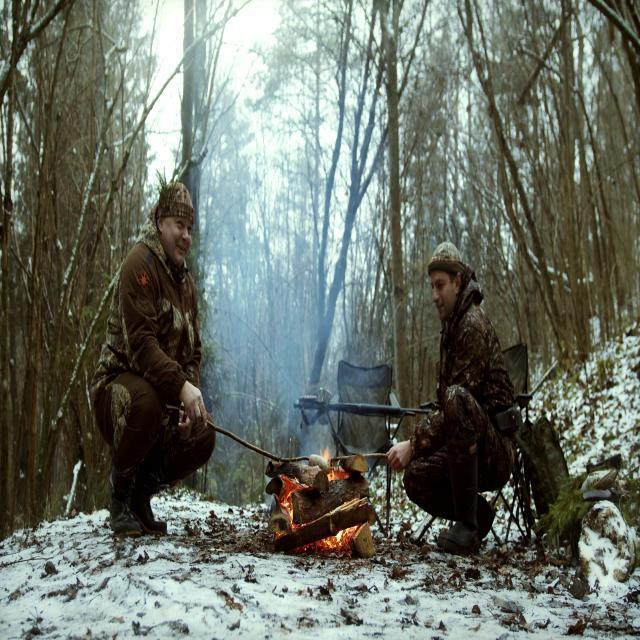Fire: (283, 462, 349, 554)
Smoke: (198, 186, 390, 458)
